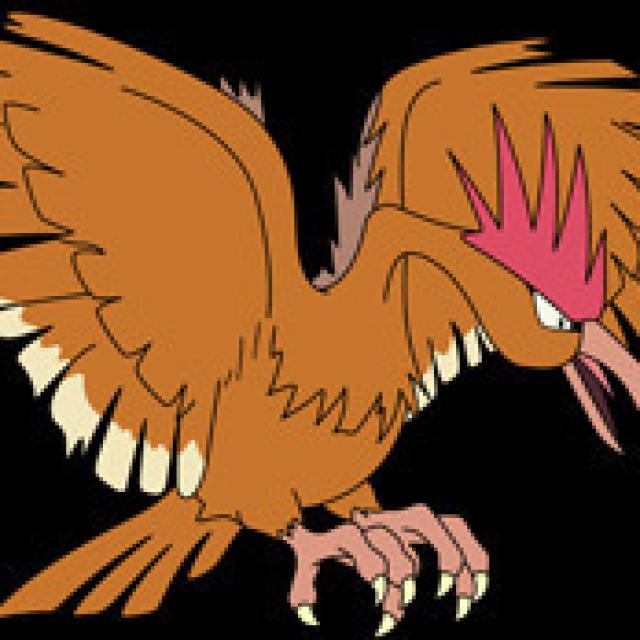Fearow: (125, 107, 640, 638)
